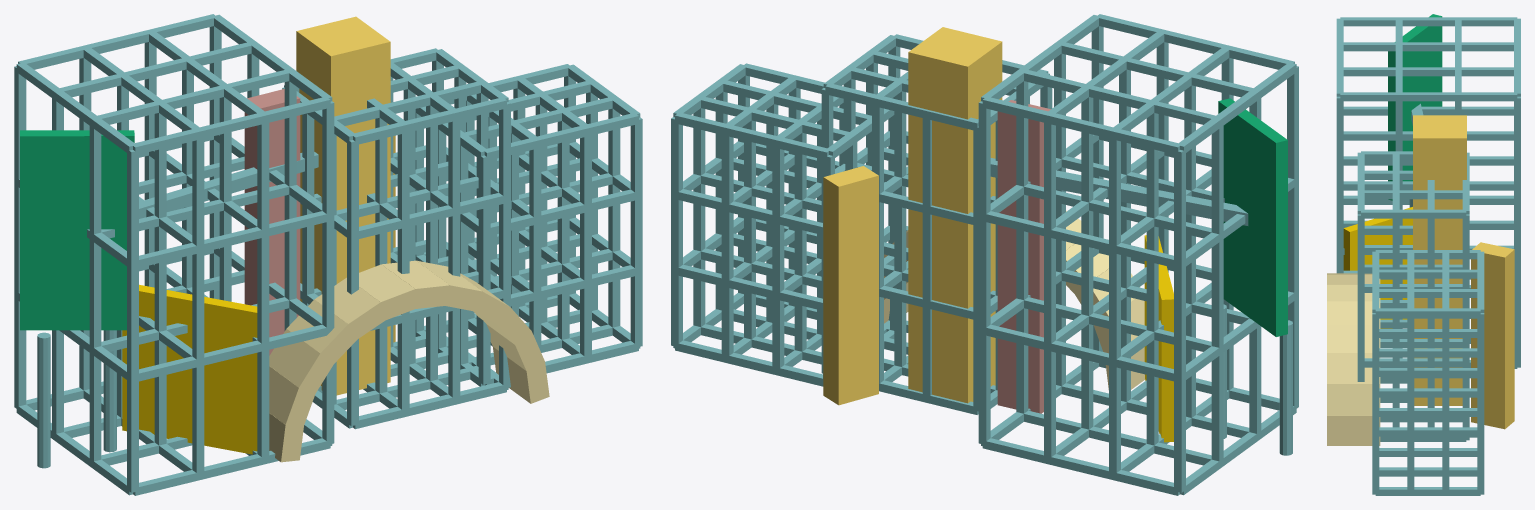
File: folie_tag_083.glb
3 renders of one model, left to right at view 1: azimuth 30°, elevation 25°; view 2: azimuth 150°, elevation 25°; view 3: azimuth 270°, elevation 25°, orthographic. The views are drawn at different scales.
Parts seen in each view (by area): view 1: folie_tag_083_00_cage, folie_tag_083_02_cage, folie_tag_083_01_cage, folie_tag_083_05_panel, folie_tag_083_03_arc, folie_tag_083_core, folie_tag_083_06_panel, folie_tag_083_04_fin, folie_tag_083_line; view 2: folie_tag_083_00_cage, folie_tag_083_02_cage, folie_tag_083_core, folie_tag_083_01_cage, folie_tag_083_07_fin, folie_tag_083_05_panel, folie_tag_083_04_fin, folie_tag_083_line, folie_tag_083_06_panel, folie_tag_083_03_arc; view 3: folie_tag_083_00_cage, folie_tag_083_02_cage, folie_tag_083_01_cage, folie_tag_083_core, folie_tag_083_03_arc, folie_tag_083_07_fin, folie_tag_083_05_panel, folie_tag_083_06_panel.
Part boxes in pixels (box(x1,y1,x2,y2)): folie_tag_083_00_cage: box(14, 14, 334, 495); folie_tag_083_02_cage: box(415, 64, 642, 386); folie_tag_083_01_cage: box(282, 48, 510, 429); folie_tag_083_05_panel: box(20, 130, 134, 330); folie_tag_083_03_arc: box(269, 260, 549, 462); folie_tag_083_core: box(296, 16, 390, 395); folie_tag_083_06_panel: box(122, 284, 257, 454); folie_tag_083_04_fin: box(244, 89, 300, 355); folie_tag_083_line: box(37, 152, 318, 468); folie_tag_083_00_cage: box(978, 14, 1298, 495); folie_tag_083_02_cage: box(671, 63, 894, 386); folie_tag_083_core: box(908, 27, 1002, 403); folie_tag_083_01_cage: box(821, 34, 1052, 414); folie_tag_083_07_fin: box(823, 166, 878, 405); folie_tag_083_05_panel: box(1218, 98, 1287, 336); folie_tag_083_04_fin: box(997, 100, 1050, 413); folie_tag_083_line: box(990, 158, 1292, 455); folie_tag_083_06_panel: box(1144, 235, 1173, 442); folie_tag_083_03_arc: box(884, 210, 1144, 389); folie_tag_083_00_cage: box(1336, 17, 1520, 368); folie_tag_083_02_cage: box(1372, 250, 1484, 495); folie_tag_083_01_cage: box(1357, 151, 1469, 441); folie_tag_083_core: box(1413, 115, 1466, 405); folie_tag_083_03_arc: box(1327, 273, 1380, 445); folie_tag_083_07_fin: box(1471, 242, 1514, 429); folie_tag_083_05_panel: box(1388, 14, 1442, 200); folie_tag_083_06_panel: box(1343, 207, 1412, 328).
Bounding box in the file's own units: 10.77 × 6.14 × 3.93.
